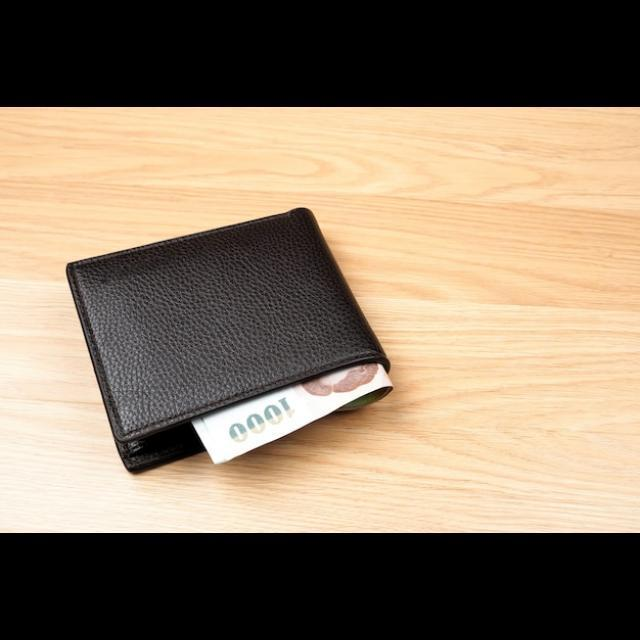wallet: (57, 195, 416, 469)
